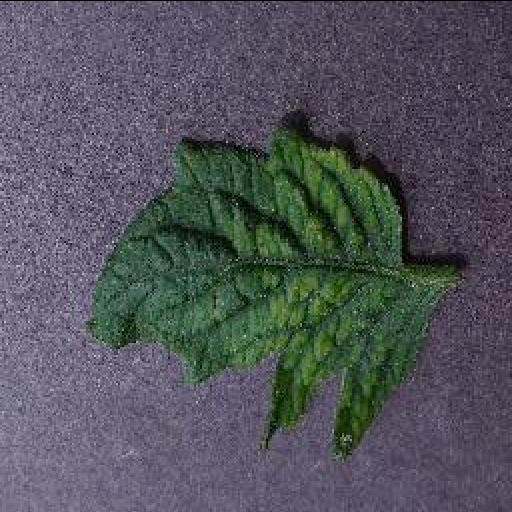disease_tomato: (86, 134, 444, 460)
